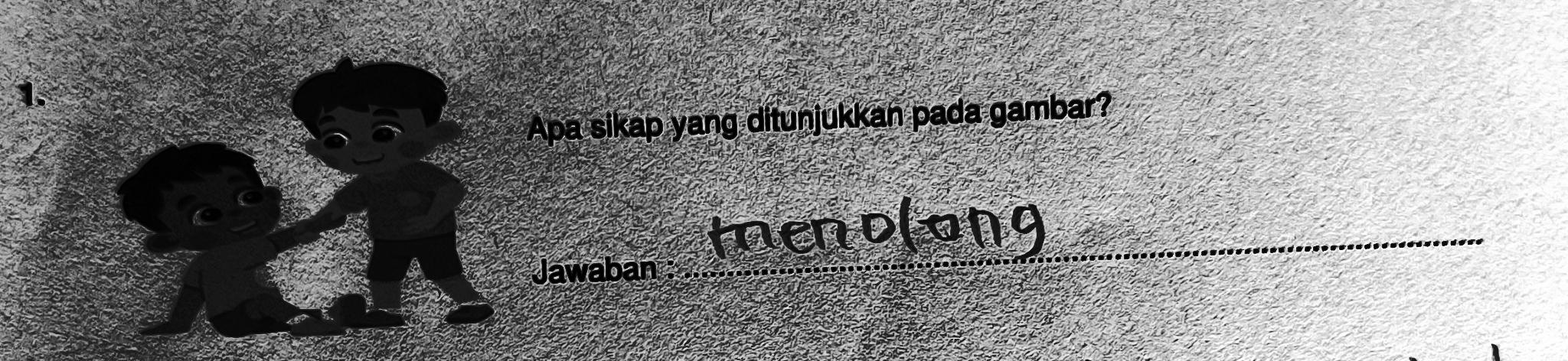jawaban: (700, 175, 1064, 279)
